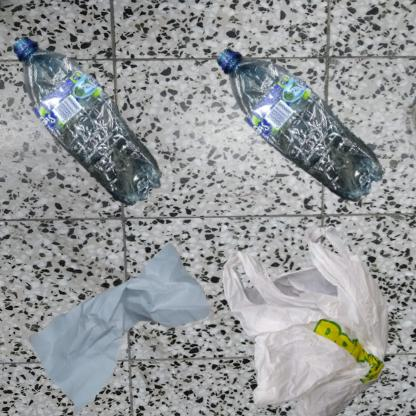bolsa: (213, 213, 416, 416)
botella: (213, 10, 416, 281), (10, 10, 188, 256)
papel: (10, 213, 236, 416)
